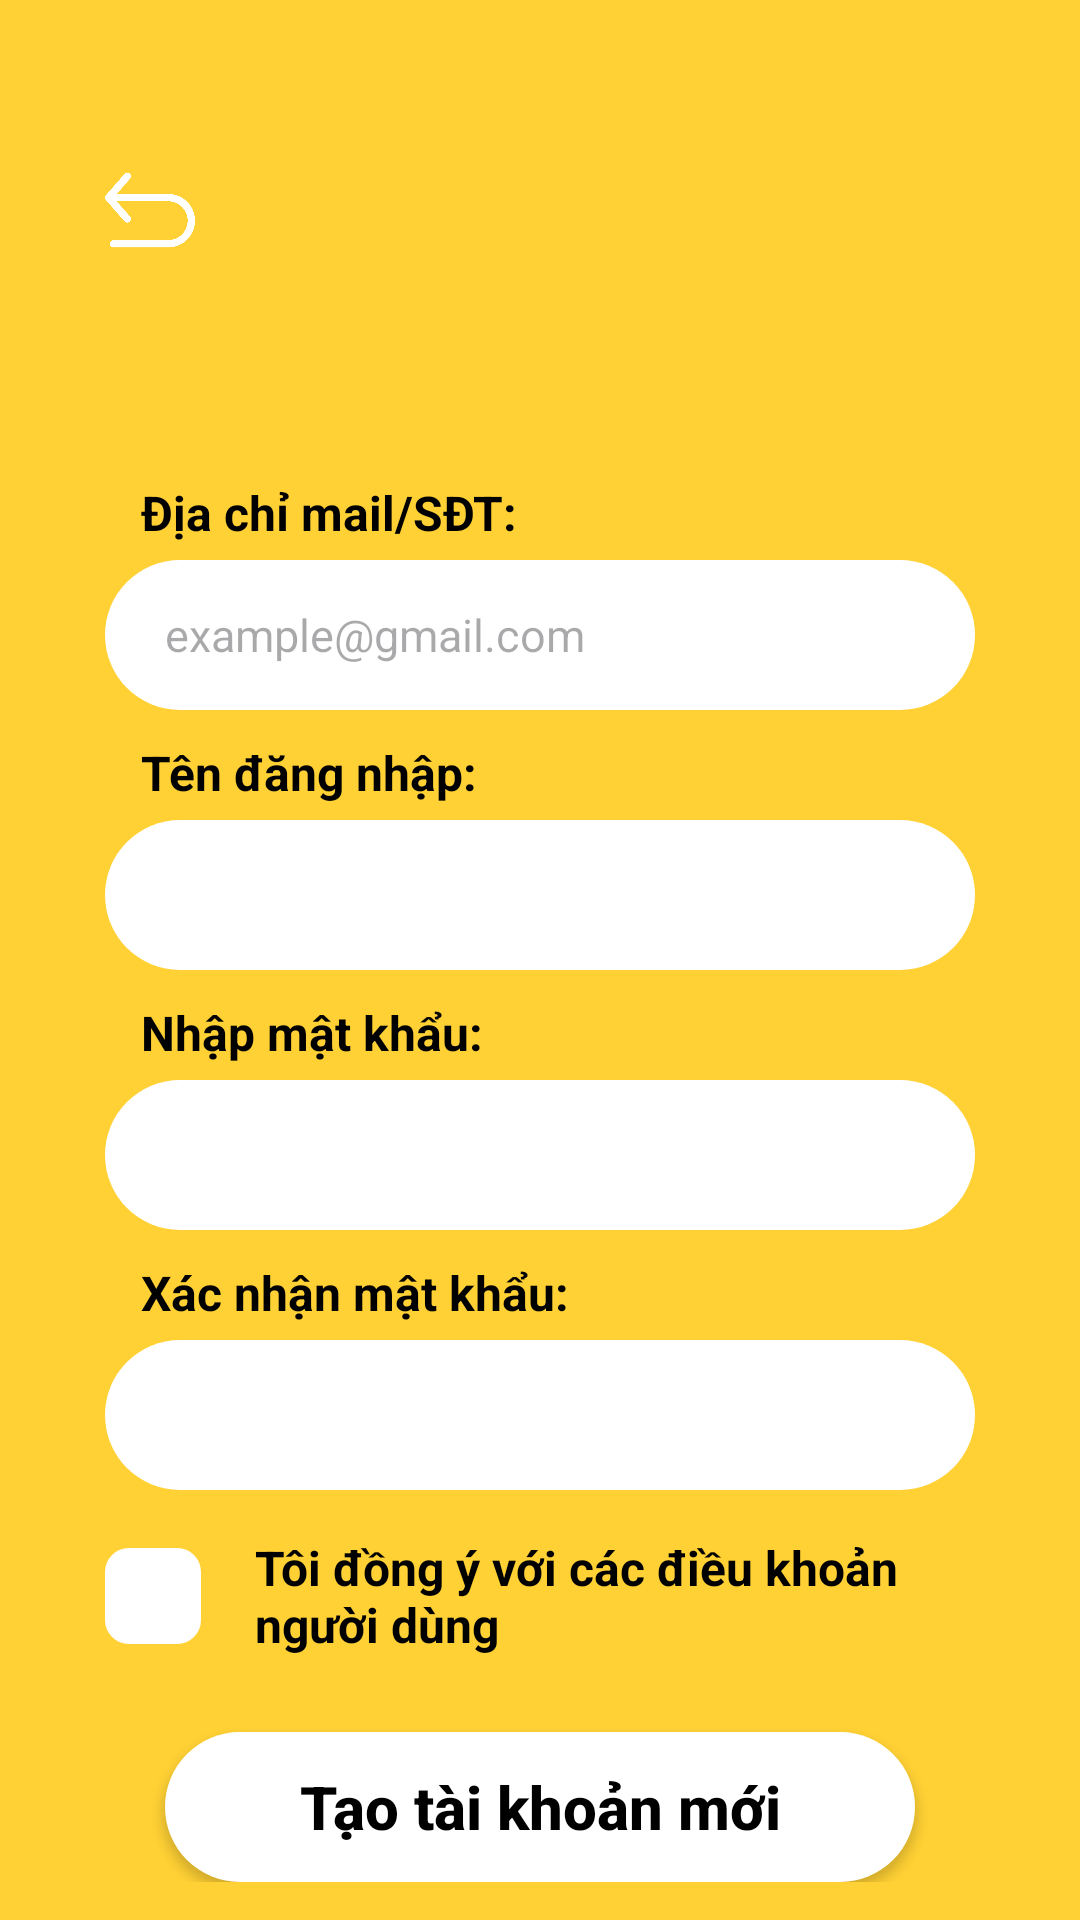

Icons on this 1080px×1920px Android screen, each with its box as (x1, y1, x2, y2):
back: (105, 173, 195, 248)
